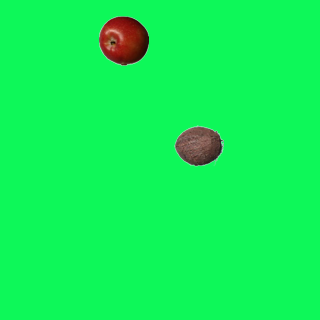Apple Braeburn: (98, 15, 148, 65)
Cocos: (173, 120, 223, 170)
